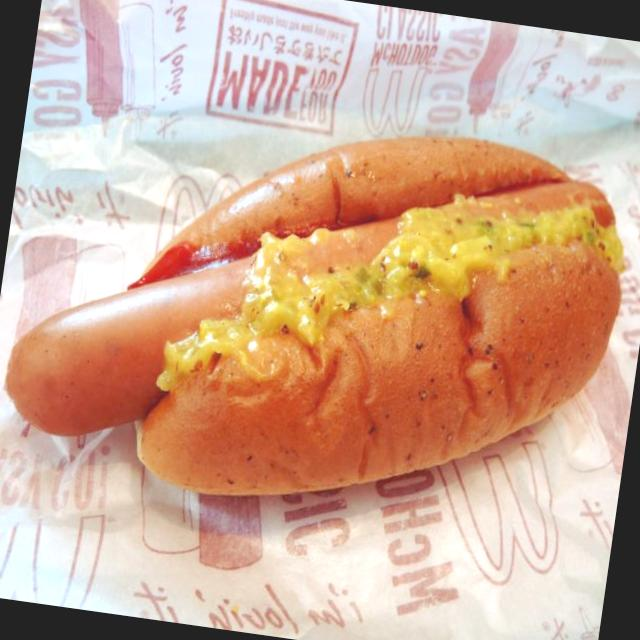Hot Dog: (0, 50, 640, 566)
